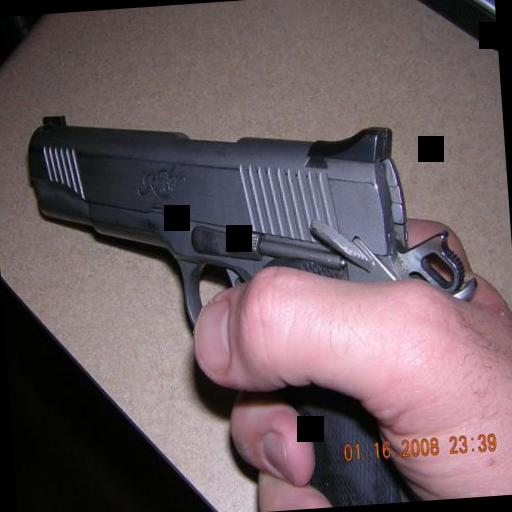Handgun: (17, 76, 502, 512)
